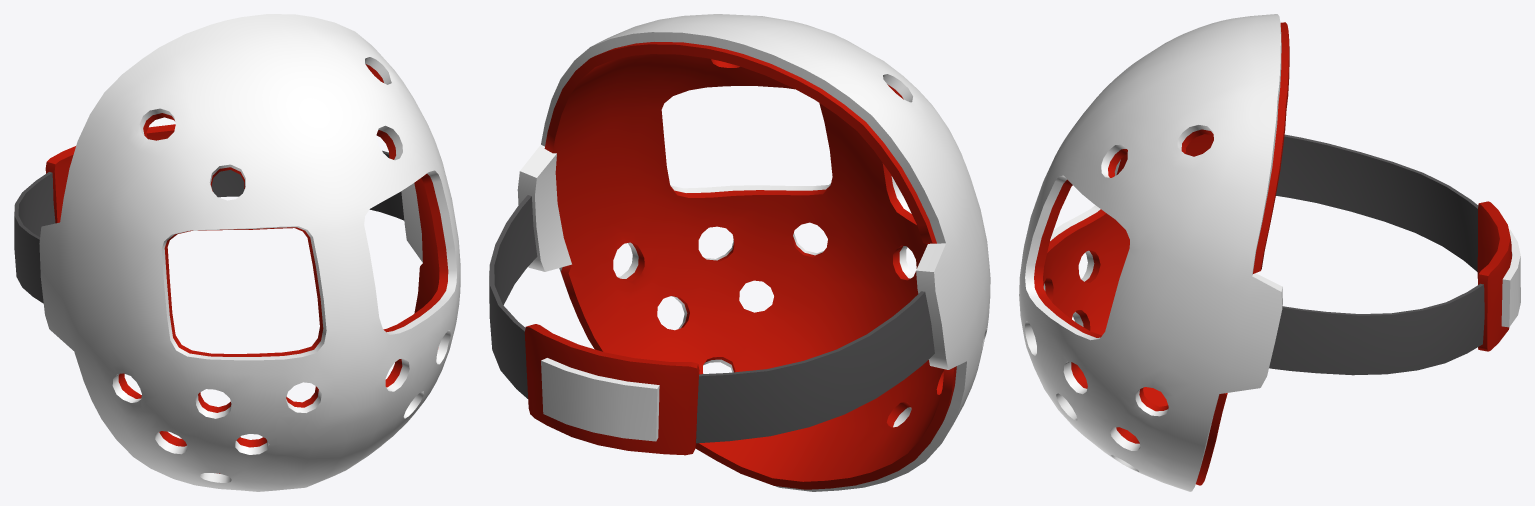
Rendered from 35曲棍球面具.fbx.
3 renders of one model, left to right at view 1: azimuth 30°, elevation 25°; view 2: azimuth 150°, elevation 25°; view 3: azimuth 270°, elevation 25°, orthographic. The views are drawn at different scales.
Parts seen in each view (by area): view 1: 35曲棍球面具; view 2: 35曲棍球面具; view 3: 35曲棍球面具.
Part boxes in pixels (x1=…): 35曲棍球面具: x1=14, y1=14, x2=460, y2=491; 35曲棍球面具: x1=489, y1=14, x2=990, y2=491; 35曲棍球面具: x1=1019, y1=14, x2=1520, y2=491.
Bounding box in the file's own units: 0.4073 × 0.4477 × 0.4681.
